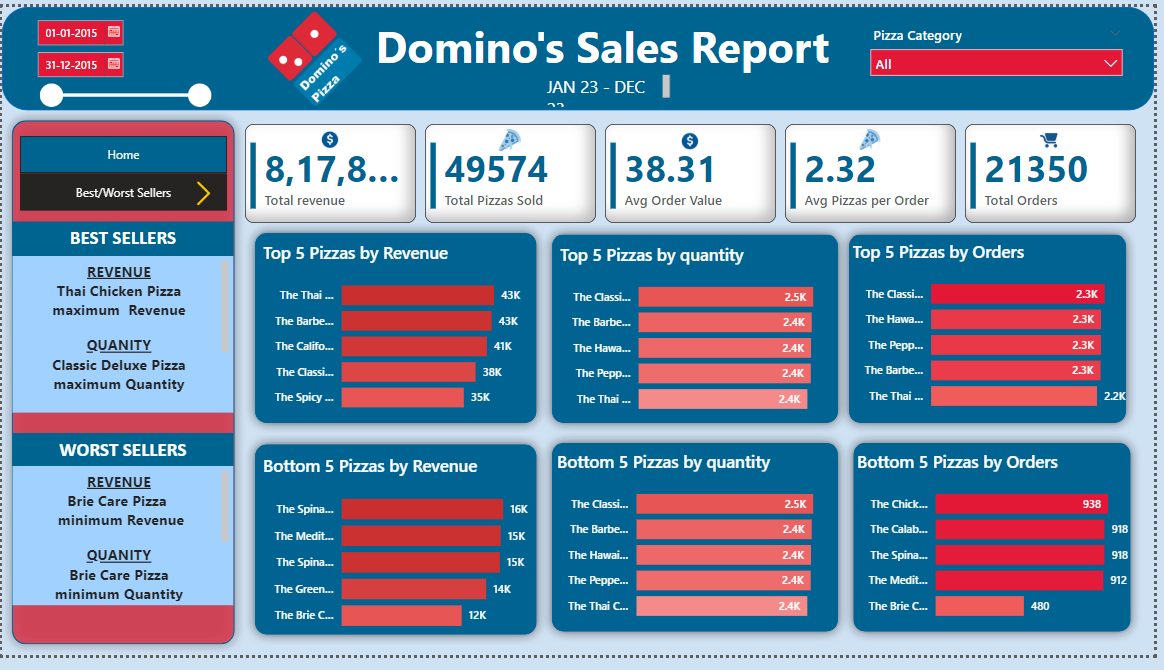

This screenshot's page, from the dashboard's own definition file:
{"tool":"powerbi","page":{"name":"Best/Worst Sellers","canvas":[1280,720],"ordinal":1},"visuals":[{"type":"actionButton","box":[0,0,100,40],"z":0},{"type":"multiRowCard","fields":{"Values":["pizza_sales.Total Pizzas Sold"]},"box":[470,130,190,110],"z":1000},{"type":"multiRowCard","fields":{"Values":["pizza_sales.Total Orders"]},"box":[1070,130,190,110],"z":2000},{"type":"multiRowCard","fields":{"Values":["pizza_sales.Avg Pizzas per Order"]},"box":[870,130,190,110],"z":3000},{"type":"multiRowCard","fields":{"Values":["pizza_sales.Avg Order Value"]},"box":[670,130,190,110],"z":4000},{"type":"multiRowCard","fields":{"Values":["pizza_sales.Total revenue"]},"box":[270,130,190,110],"z":5000},{"type":"image","box":[343.3,130,41.7,35],"z":6000},{"type":"image","box":[1138.3,130,51.7,35],"z":7000},{"type":"image","box":[543.3,130,41.7,35],"z":8000},{"type":"image","box":[733.3,131.7,61.7,35],"z":9000},{"type":"image","box":[940,130,48.3,33.3],"z":10000},{"type":"shape","box":[0,0,1280,115],"z":11000},{"type":"textbox","box":[410,5,525,86.7],"z":12000},{"type":"image","box":[285,0,125,115],"z":13000},{"type":"textbox","box":[599.6,69.7,146.9,45.4],"z":14000},{"type":"shape","box":[270,240,335,233.3],"z":15000},{"type":"shape","box":[0,115.1,269.5,604.2],"z":16000},{"type":"textbox","box":[12.1,237.7,245.3,39.4],"z":17000},{"type":"textbox","box":[12.1,277.1,245.3,174.1],"z":18000},{"type":"textbox","box":[12.1,473.9,245.3,36.3],"z":19000},{"type":"textbox","box":[12.1,510.3,245.3,154.4],"z":20000},{"type":"slicer","fields":{"Values":["pizza_sales.pizza_category"]},"box":[954.3,15.7,300,300],"z":21000},{"type":"slicer","fields":{"Values":["pizza_sales.order_date"]},"box":[27.1,5.7,214.3,110],"z":22000},{"type":"shape","box":[600,241.7,340,231.7],"z":23000},{"type":"shape","box":[930,241.7,330,231.7],"z":24000},{"type":"shape","box":[270,475,335,233.3],"z":25000},{"type":"shape","box":[600,473.3,340,231.7],"z":26000},{"type":"shape","box":[935,473.3,330,231.7],"z":27000},{"type":"barChart","title":"Top 5 Pizzas by Revenue","fields":{"Category":["pizza_sales.pizza_name"],"Y":["pizza_sales.Total revenue"]},"box":[285,260,315,201.7],"z":28000},{"type":"barChart","title":"Bottom 5 Pizzas by Revenue","fields":{"Category":["pizza_sales.pizza_name"],"Y":["pizza_sales.Total revenue"]},"box":[285,496.7,315,208.3],"z":29000},{"type":"barChart","title":"Top 5 Pizzas by quantity","fields":{"Category":["pizza_sales.pizza_name"],"Y":["pizza_sales.Total Pizzas Sold"]},"box":[615,261.7,315,201.7],"z":30000},{"type":"barChart","title":"Bottom 5 Pizzas by quantity","fields":{"Category":["pizza_sales.pizza_name"],"Y":["pizza_sales.Total Pizzas Sold"]},"box":[611.7,491.7,318.3,201.7],"z":31000},{"type":"barChart","title":"Top 5 Pizzas by Orders","fields":{"Category":["pizza_sales.pizza_name"],"Y":["pizza_sales.Total Orders"]},"box":[940,258.3,315,201.7],"z":32000},{"type":"barChart","title":"Bottom 5 Pizzas by Orders","fields":{"Category":["pizza_sales.pizza_name"],"Y":["pizza_sales.Total Orders"]},"box":[945,491.7,315,201.7],"z":33000},{"type":"pageNavigator","box":[20,143.3,230,41.7],"z":34000},{"type":"pageNavigator","box":[20,185,230,41.7],"z":35000},{"type":"image","box":[204.4,186.2,37.9,40.9],"z":36000}]}

Visuals, with their boxes in screenshot pixels (x1, y1, x2, y2), scaled from the page's 1280x720 canvas onto the 1164x670 screenshot:
actionButton: [left=0, top=0, right=91, bottom=37]
multiRowCard - pizza_sales.Total Pizzas Sold: [left=427, top=121, right=600, bottom=223]
multiRowCard - pizza_sales.Total Orders: [left=973, top=121, right=1146, bottom=223]
multiRowCard - pizza_sales.Avg Pizzas per Order: [left=791, top=121, right=964, bottom=223]
multiRowCard - pizza_sales.Avg Order Value: [left=609, top=121, right=782, bottom=223]
multiRowCard - pizza_sales.Total revenue: [left=246, top=121, right=418, bottom=223]
image: [left=312, top=121, right=350, bottom=154]
image: [left=1035, top=121, right=1082, bottom=154]
image: [left=494, top=121, right=532, bottom=154]
image: [left=667, top=123, right=723, bottom=155]
image: [left=855, top=121, right=899, bottom=152]
shape: [left=0, top=0, right=1163, bottom=107]
textbox: [left=373, top=5, right=850, bottom=85]
image: [left=259, top=0, right=373, bottom=107]
textbox: [left=545, top=65, right=679, bottom=107]
shape: [left=246, top=223, right=550, bottom=440]
shape: [left=0, top=107, right=245, bottom=669]
textbox: [left=11, top=221, right=234, bottom=258]
textbox: [left=11, top=258, right=234, bottom=420]
textbox: [left=11, top=441, right=234, bottom=475]
textbox: [left=11, top=475, right=234, bottom=619]
slicer - pizza_sales.pizza_category: [left=868, top=15, right=1141, bottom=294]
slicer - pizza_sales.order_date: [left=25, top=5, right=220, bottom=108]
shape: [left=546, top=225, right=855, bottom=441]
shape: [left=846, top=225, right=1146, bottom=441]
shape: [left=246, top=442, right=550, bottom=659]
shape: [left=546, top=440, right=855, bottom=656]
shape: [left=850, top=440, right=1150, bottom=656]
"Top 5 Pizzas by Revenue" barChart: [left=259, top=242, right=546, bottom=430]
"Bottom 5 Pizzas by Revenue" barChart: [left=259, top=462, right=546, bottom=656]
"Top 5 Pizzas by quantity" barChart: [left=559, top=244, right=846, bottom=431]
"Bottom 5 Pizzas by quantity" barChart: [left=556, top=458, right=846, bottom=645]
"Top 5 Pizzas by Orders" barChart: [left=855, top=240, right=1141, bottom=428]
"Bottom 5 Pizzas by Orders" barChart: [left=859, top=458, right=1146, bottom=645]
pageNavigator: [left=18, top=133, right=227, bottom=172]
pageNavigator: [left=18, top=172, right=227, bottom=211]
image: [left=186, top=173, right=220, bottom=211]
